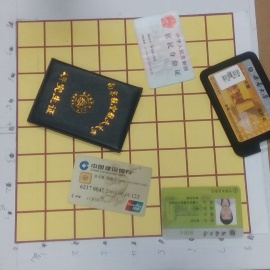card: (68, 154, 152, 218), (131, 10, 196, 90), (159, 183, 245, 240)
